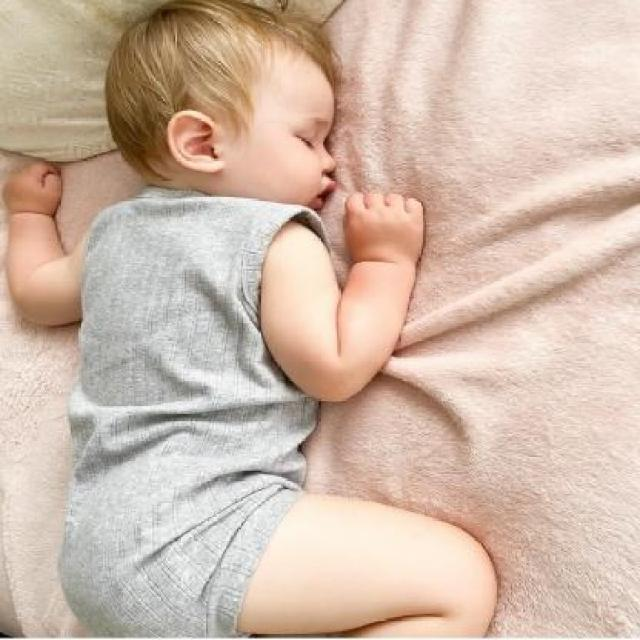baby: (0, 1, 498, 638)
